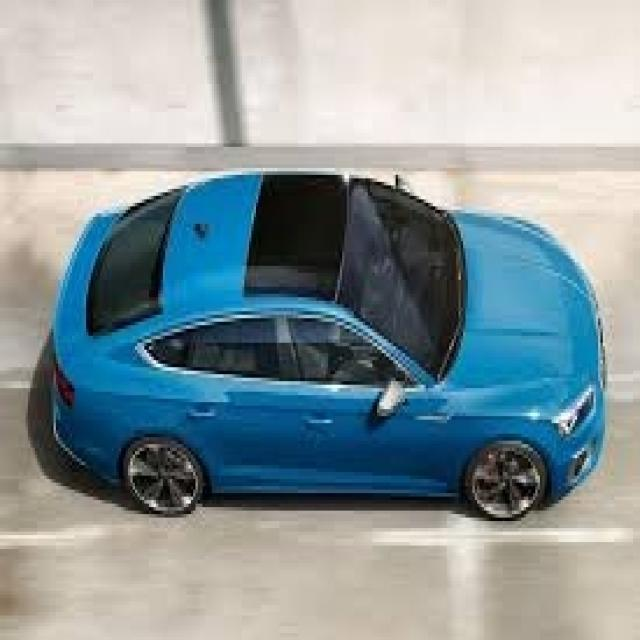blue: (55, 178, 602, 545)
